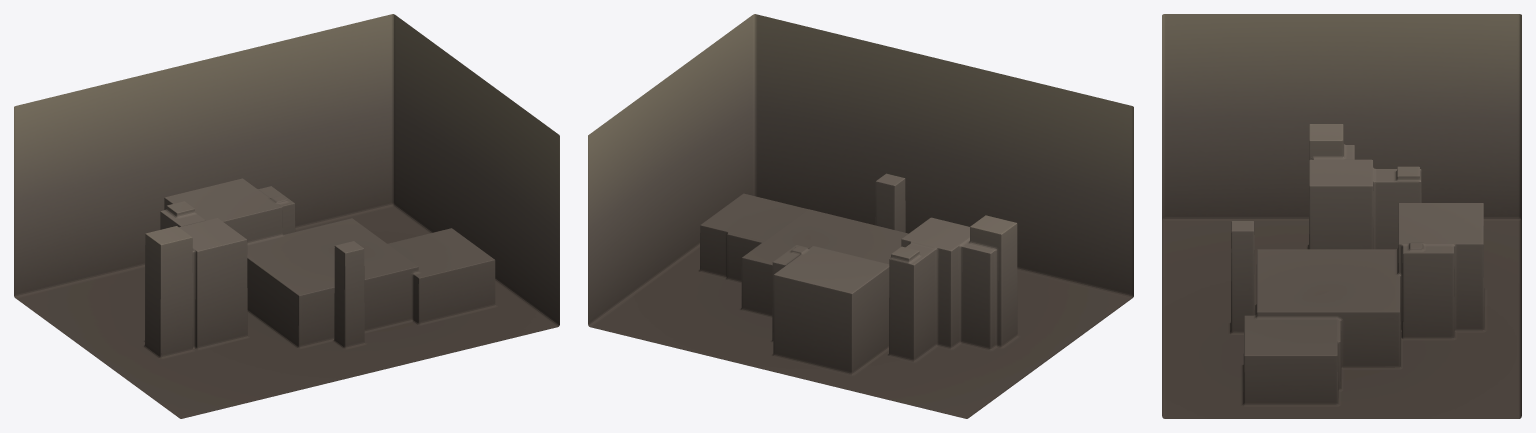
File: weaverdeep.glb
3 views of the same model, side by side, from view 1: azimuth 30°, elevation 25°; view 2: azimuth 150°, elevation 25°; view 3: azimuth 270°, elevation 25° (orthographic). The views are drawn at different scales.
Parts seen in each view (by area): view 1: shell_nursery, shell_deep_span, shell_span, shell_larder, shell_cut_rope, shell_root_mouth, shell_first_hollow, shell_heart_root; view 2: shell_nursery, shell_cut_rope, shell_root_mouth, shell_span, shell_deep_span, shell_larder, shell_first_hollow, shell_heart_root; view 3: shell_root_mouth, shell_nursery, shell_span, shell_deep_span, shell_cut_rope, shell_first_hollow, shell_heart_root, shell_larder.
Boxes of the visible parts, bbox=[...] form: shell_nursery: bbox=[363, 32, 559, 354]; shell_deep_span: bbox=[234, 14, 418, 257]; shell_span: bbox=[14, 77, 217, 334]; shell_larder: bbox=[107, 44, 267, 285]; shell_cut_rope: bbox=[250, 241, 445, 400]; shell_root_mouth: bbox=[60, 226, 254, 418]; shell_first_hollow: bbox=[134, 218, 265, 384]; shell_heart_root: bbox=[247, 224, 386, 347]; shell_nursery: bbox=[592, 14, 865, 323]; shell_cut_rope: bbox=[813, 28, 1060, 291]; shell_root_mouth: bbox=[966, 82, 1133, 386]; shell_span: bbox=[870, 238, 1011, 418]; shell_deep_span: bbox=[588, 117, 844, 369]; shell_larder: bbox=[765, 253, 884, 396]; shell_first_hollow: bbox=[902, 217, 1026, 357]; shell_heart_root: bbox=[751, 217, 901, 264]; shell_root_mouth: bbox=[1162, 14, 1470, 266]; shell_nursery: bbox=[1162, 296, 1507, 418]; shell_span: bbox=[1367, 14, 1521, 276]; shell_deep_span: bbox=[1369, 227, 1521, 418]; shell_cut_rope: bbox=[1162, 221, 1286, 359]; shell_first_hollow: bbox=[1203, 157, 1375, 285]; shell_heart_root: bbox=[1261, 249, 1382, 323]; shell_larder: bbox=[1376, 203, 1521, 326].
Bounding box in the file's own units: 140 × 67.44 × 107.
